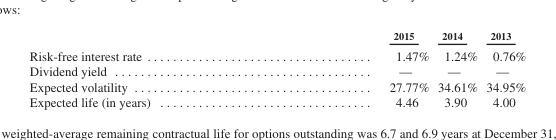table: (28, 29, 525, 108)
table column: (28, 29, 269, 108), (269, 29, 432, 108), (432, 29, 481, 108), (481, 29, 525, 108)
table column header: (28, 29, 525, 44)
table row: (28, 44, 525, 62), (28, 62, 525, 78), (28, 29, 525, 44), (28, 78, 525, 93), (28, 93, 525, 108)
